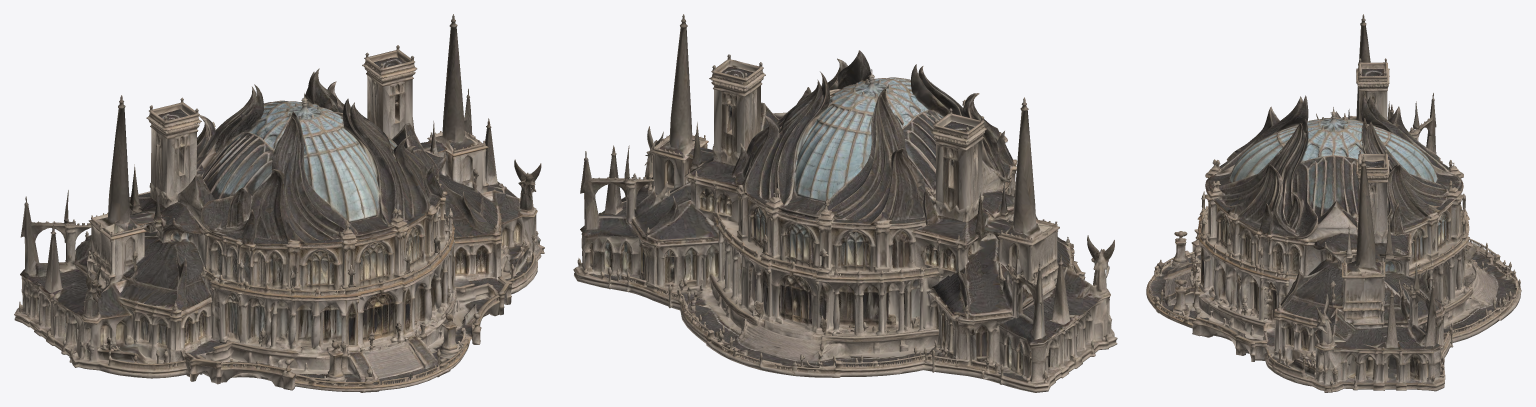
Rendered from grandloft.glb.
3 renders of one model, left to right at view 1: azimuth 30°, elevation 25°; view 2: azimuth 150°, elevation 25°; view 3: azimuth 270°, elevation 25°, orthographic. The views are drawn at different scales.
Parts seen in each view (by area): view 1: lo; view 2: lo; view 3: lo.
Boxes of the visible parts, x1,y1,x2,y2 form: lo: (14, 14, 544, 392); lo: (573, 14, 1117, 392); lo: (1146, 14, 1521, 392).
Bounding box in the file's own units: 1.9 × 0.9322 × 1.51.
Materials: 1 (1 with a texture image).
